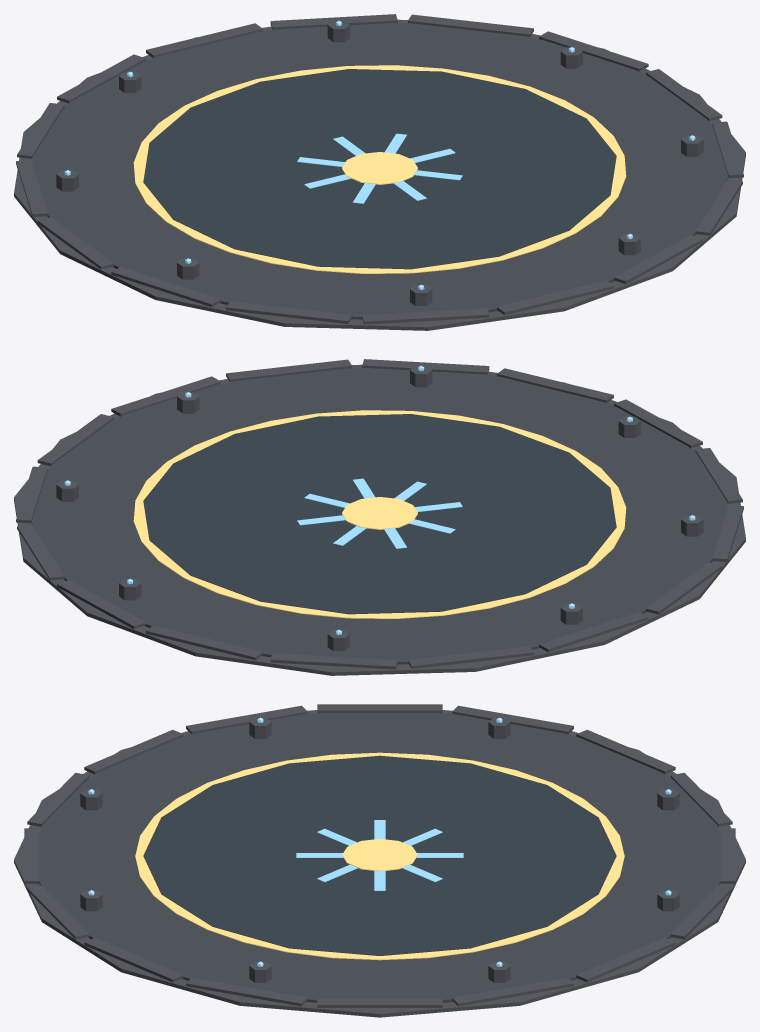
The model's file is elven_central_plaza.glb.
The picture shows the model from 3 angles, top to bottom: view 1: azimuth 30°, elevation 25°; view 2: azimuth 150°, elevation 25°; view 3: azimuth 270°, elevation 25°; orthographic projection.
Parts seen in each view (by area): view 1: Cylinder.001, Cylinder.003, Cylinder.002, Cylinder, Cylinder.004, Cube.011, Cube.010, Cube.012, Cube.009, Cube.002, Cube.004, Cube.013 (+11 smaller); view 2: Cylinder.001, Cylinder.003, Cylinder.002, Cylinder, Cylinder.004, Cube.005, Cube.006, Cube.004, Cube.007, Cube.014, Cube.012, Cube.003 (+11 smaller); view 3: Cylinder.001, Cylinder.003, Cylinder, Cylinder.002, Cylinder.004, Cube, Cube.001, Cube.015, Cube.002, Cube.014, Cube.008, Cube.006 (+11 smaller).
Part boxes in pixels (<box>): Cylinder.001: <box>32,23,728,321</box>; Cylinder.003: <box>143,69,616,269</box>; Cylinder.002: <box>133,65,626,273</box>; Cylinder: <box>14,19,745,330</box>; Cylinder.004: <box>342,152,417,184</box>; Cube.011: <box>362,308,489,324</box>; Cube.010: <box>226,301,351,323</box>; Cube.012: <box>497,280,613,315</box>; Cube.009: <box>111,267,220,307</box>; Cube.002: <box>408,14,533,36</box>; Cube.004: <box>146,23,262,57</box>; Cube.013: <box>614,235,702,283</box>; Cylinder.001: <box>31,368,727,666</box>; Cylinder.003: <box>143,414,616,614</box>; Cylinder.002: <box>133,410,626,618</box>; Cylinder: <box>14,364,745,675</box>; Cylinder.004: <box>342,497,417,529</box>; Cube.005: <box>270,653,397,669</box>; Cube.006: <box>408,646,533,668</box>; Cube.004: <box>146,625,262,660</box>; Cube.007: <box>539,612,648,652</box>; Cube.014: <box>226,359,351,381</box>; Cube.012: <box>497,368,613,402</box>; Cube.003: <box>57,580,145,628</box>; Cylinder.001: <box>39,713,720,1002</box>; Cylinder.003: <box>143,755,616,955</box>; Cylinder: <box>14,710,745,1017</box>; Cylinder.002: <box>135,752,624,960</box>; Cylinder.004: <box>342,839,417,871</box>; Cube: <box>317,998,442,1007</box>; Cube.001: <box>452,977,573,1006</box>; Cube.015: <box>186,977,307,1006</box>; Cube.002: <box>576,938,675,982</box>; Cube.014: <box>84,938,183,982</box>; Cube.008: <box>317,704,442,713</box>; Cube.006: <box>576,729,675,774</box>.
Bounding box in the file's own units: 18.4 × 0.65 × 18.4.
